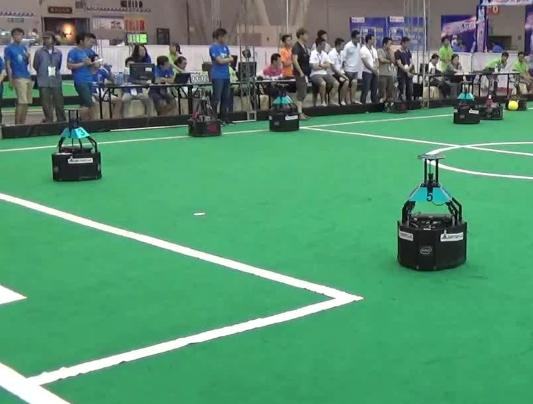robot: (394, 151, 470, 274), (48, 106, 101, 184)
